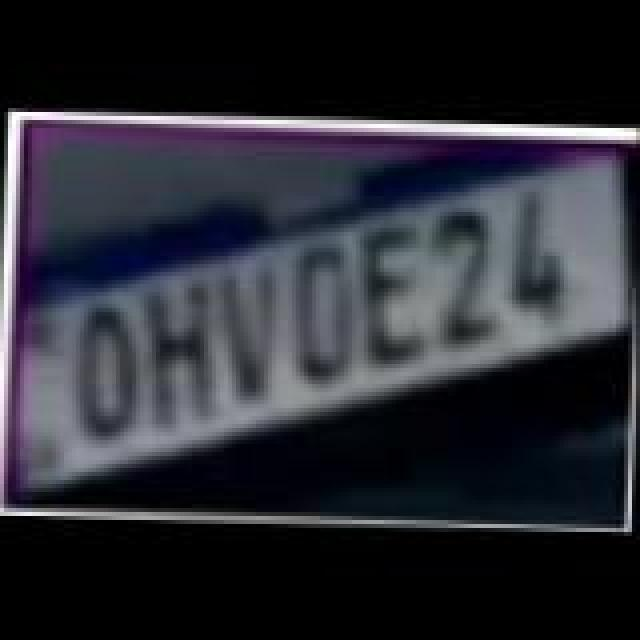2: (430, 206, 506, 346)
4: (508, 190, 572, 322)
D: (286, 236, 358, 384)
E: (356, 220, 432, 364)
H: (140, 278, 220, 430)
O: (72, 300, 144, 444)
V: (210, 260, 282, 404)
